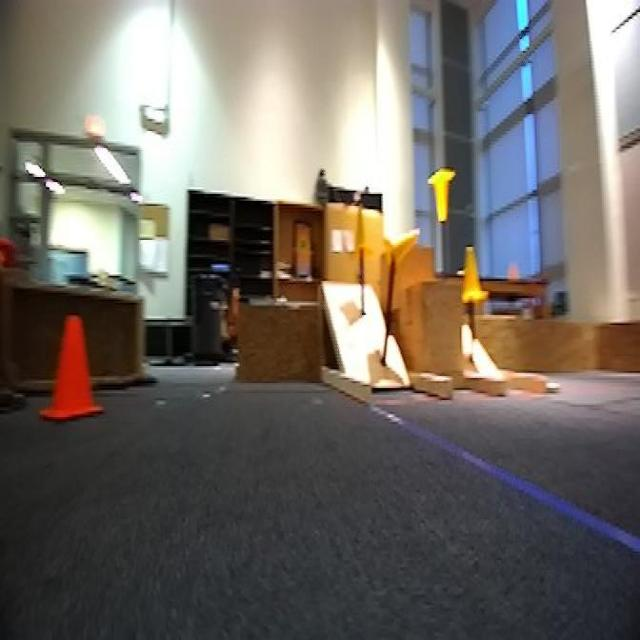frc_cone: (383, 230, 419, 277), (427, 167, 454, 226), (459, 245, 484, 305), (352, 206, 377, 254)
